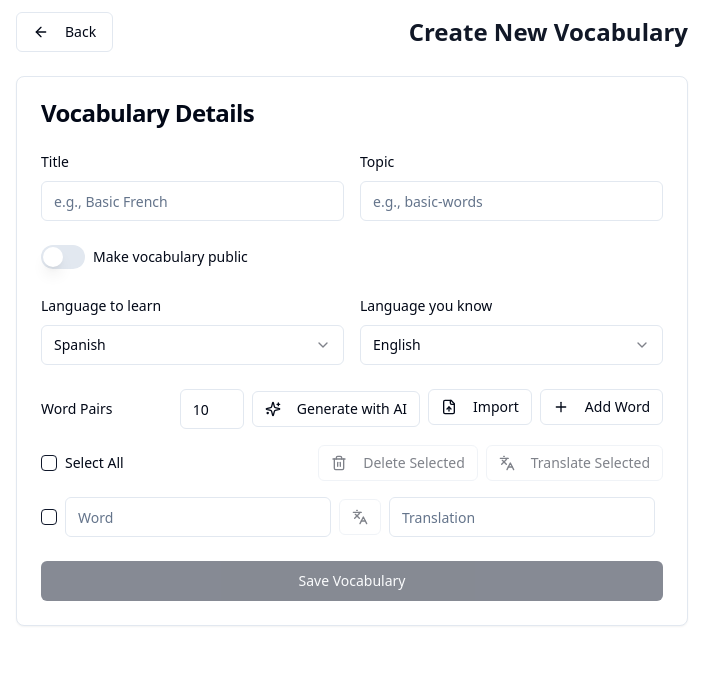
Test: CreateVocabulary Component › Word Selection and Actions › selects and deselects all words
Click the button "Add Word": (601, 407) [540,389,663,425]
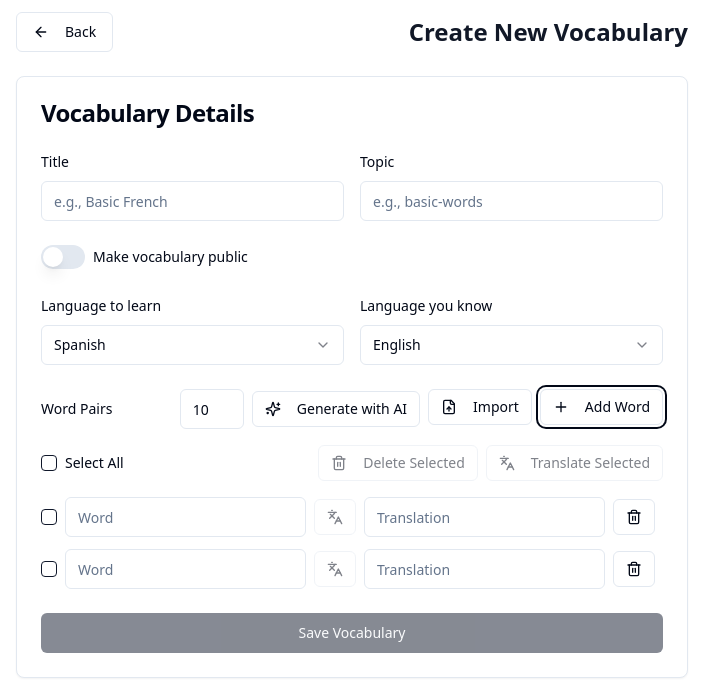
Click the checkbox next to "Select All": (49, 463) [41,455,57,471]
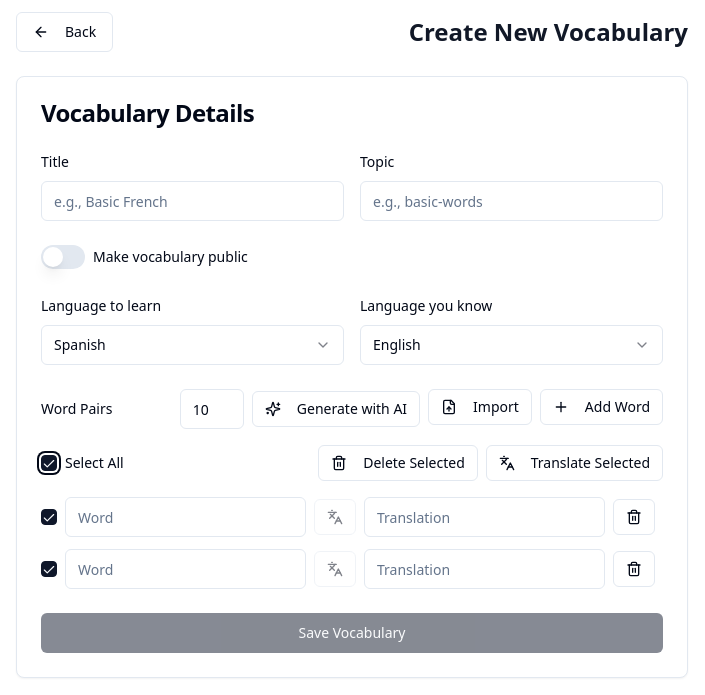
Check: the 2nd checkbox is checked, box [41,509,57,525]
Check: the 3rd checkbox is checked, box [41,561,57,577]
Click the checkbox next to "Select All": (49, 463) [41,455,57,471]
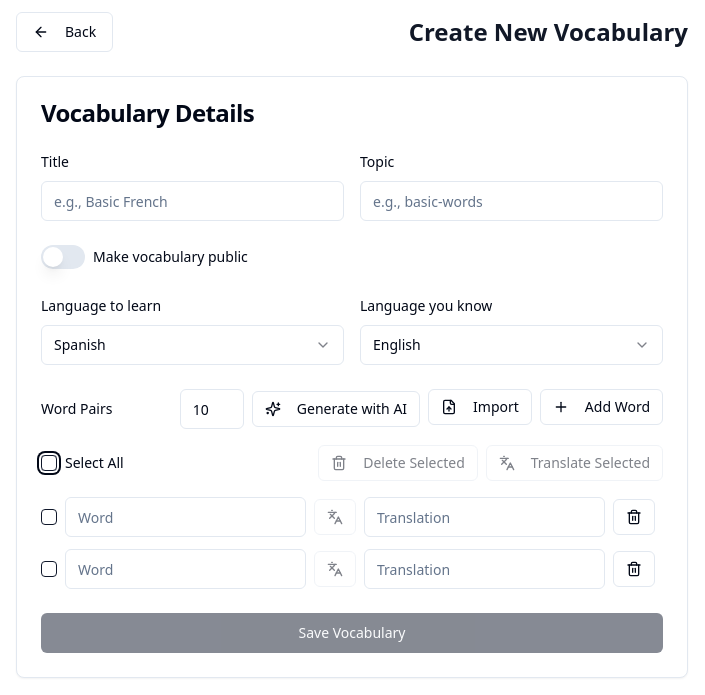
Check: the 2nd checkbox is not checked, box [41,509,57,525]
Check: the 3rd checkbox is not checked, box [41,561,57,577]
